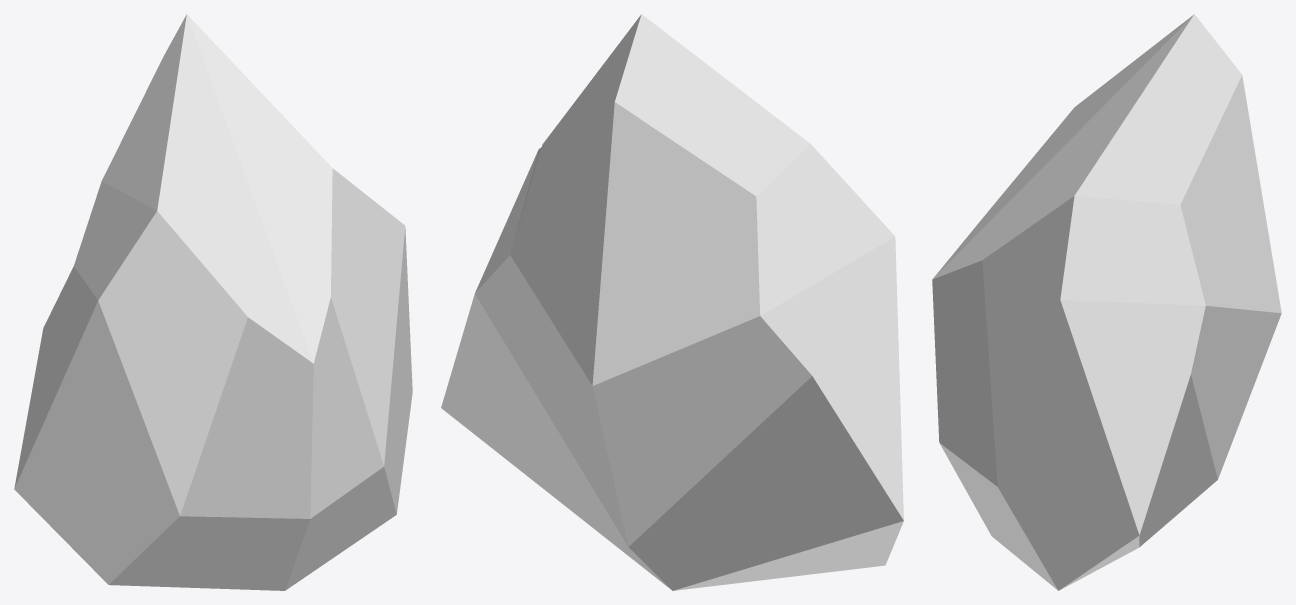
Rendered from rock00.glb.
The picture shows the model from 3 angles, left to right: view 1: azimuth 30°, elevation 25°; view 2: azimuth 150°, elevation 25°; view 3: azimuth 270°, elevation 25°; orthographic projection. The views are drawn at different scales.
Parts seen in each view (by area): view 1: Cube; view 2: Cube; view 3: Cube.
Boxes of the visible parts, bbox=[...] form: Cube: bbox=[14, 14, 412, 590]; Cube: bbox=[441, 14, 903, 590]; Cube: bbox=[932, 14, 1281, 590].
Bounding box in the file's own units: 2.81 × 3.48 × 2.06.
1 material, 1 textured.
